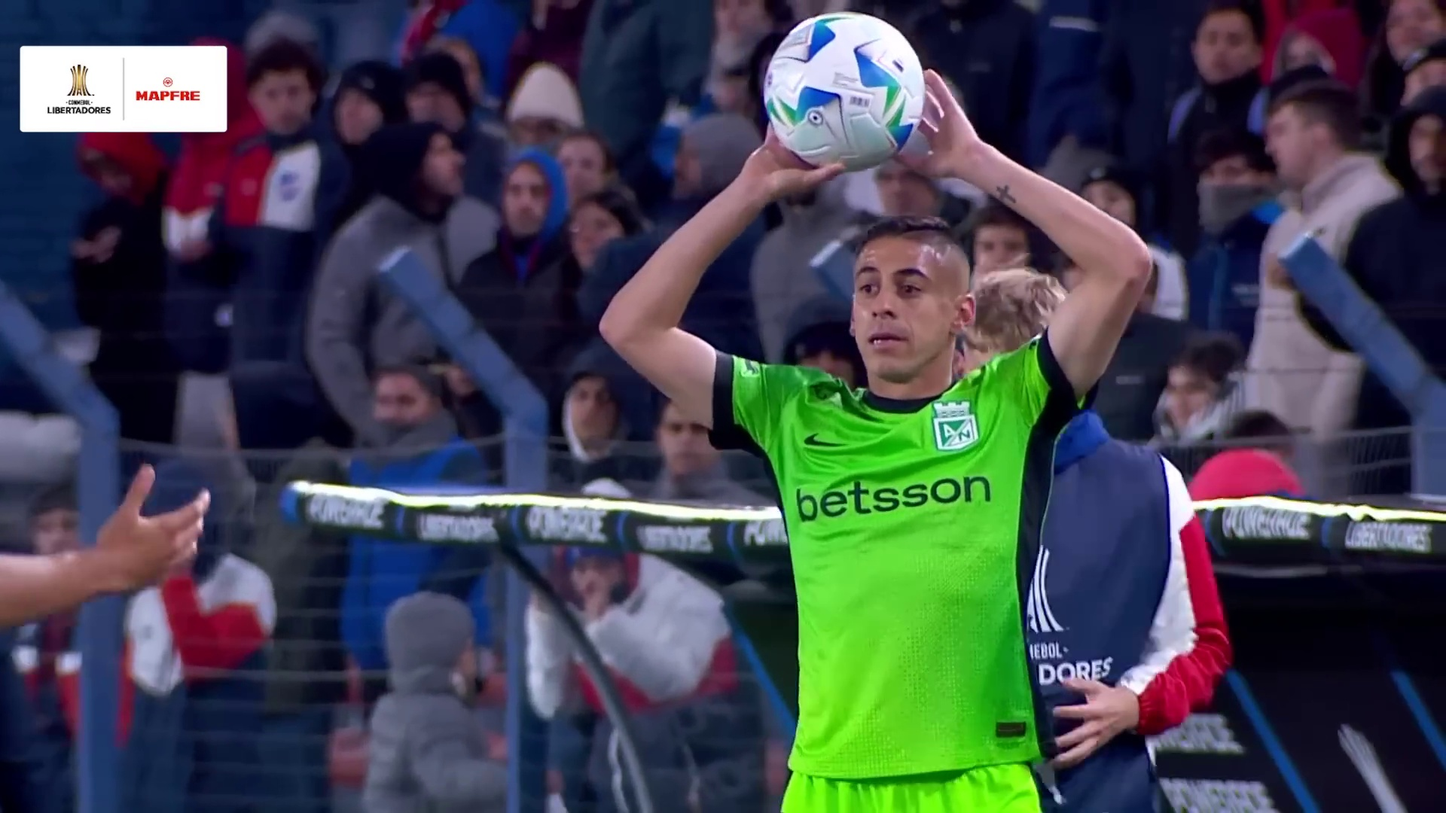player: (597, 61, 1161, 807), (759, 8, 925, 174)
